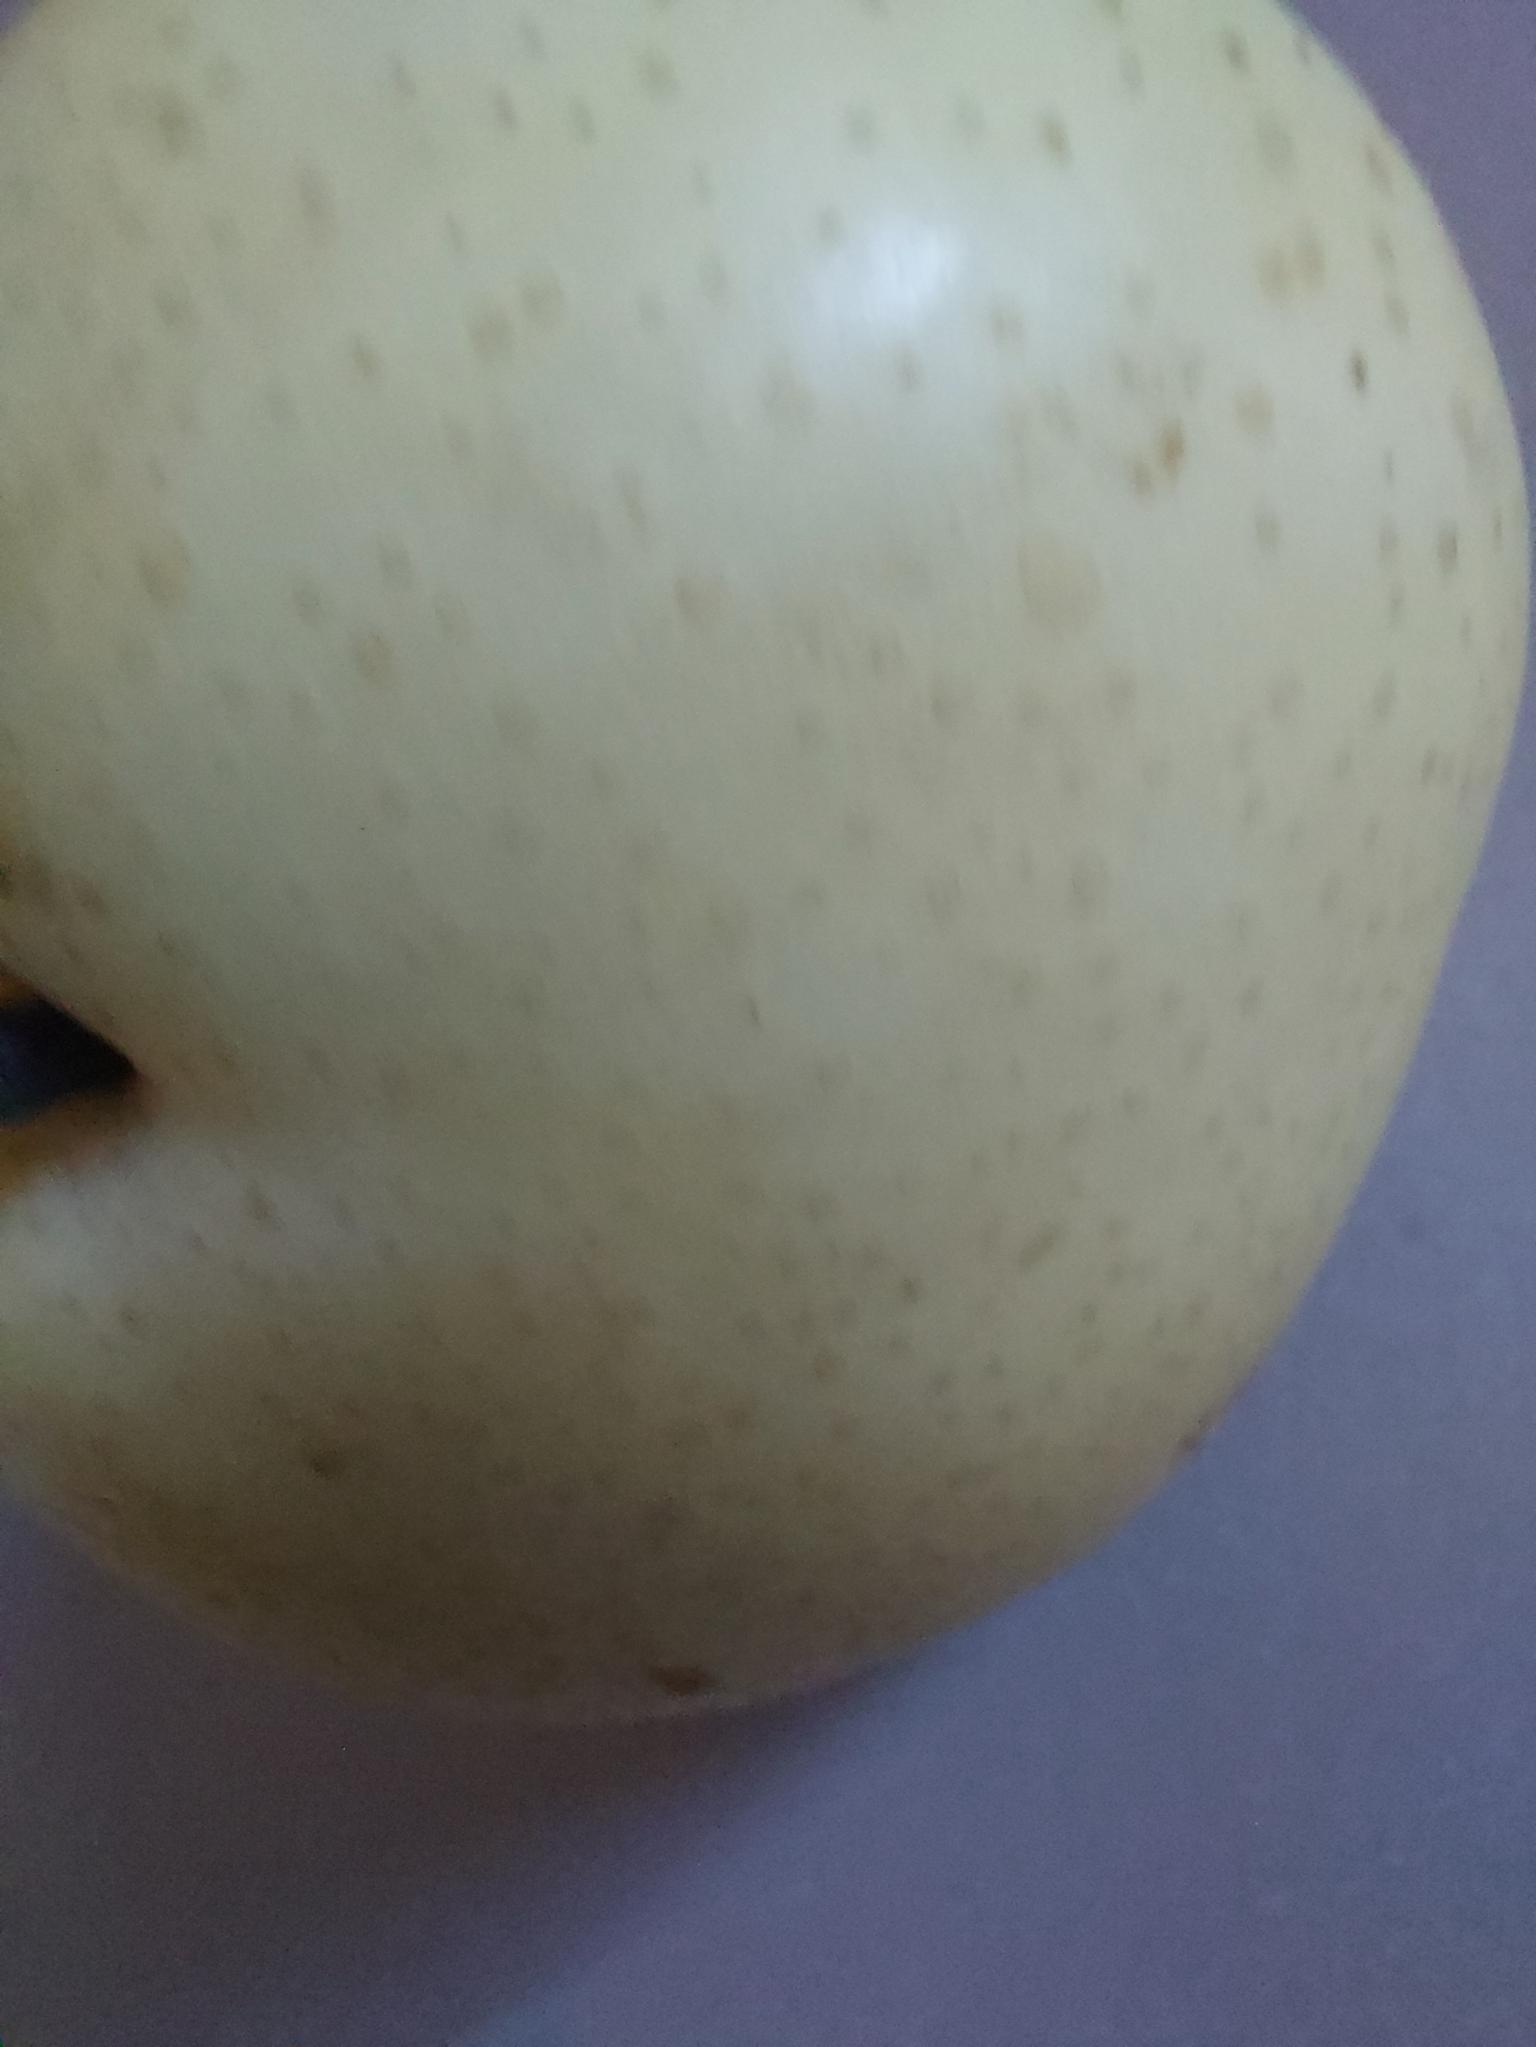Good Pear: (0, 0, 1536, 1813)
